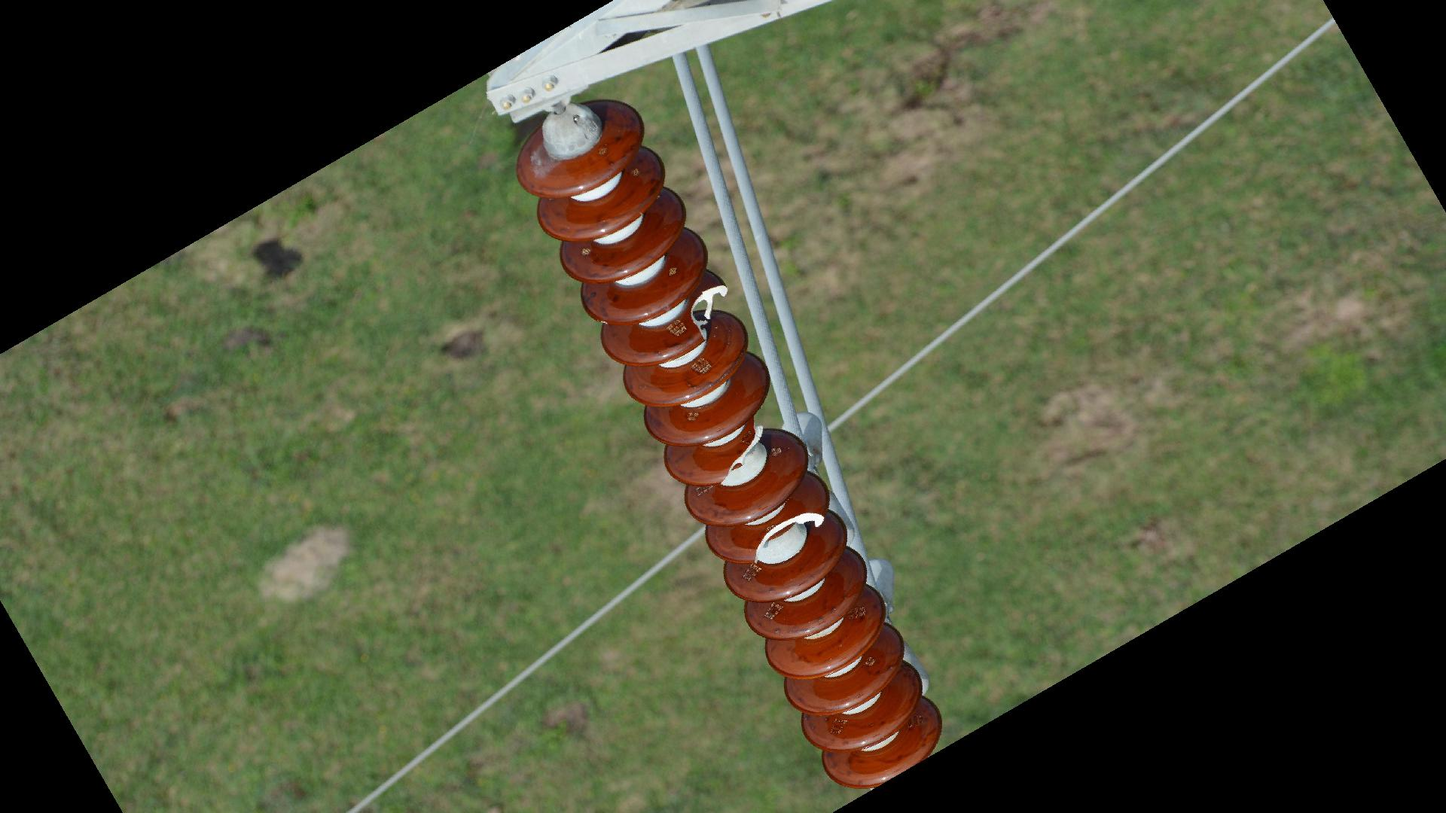insulator: (508, 94, 949, 794)
insulator_breakage: (749, 507, 828, 567), (714, 416, 766, 488), (685, 279, 732, 347)
